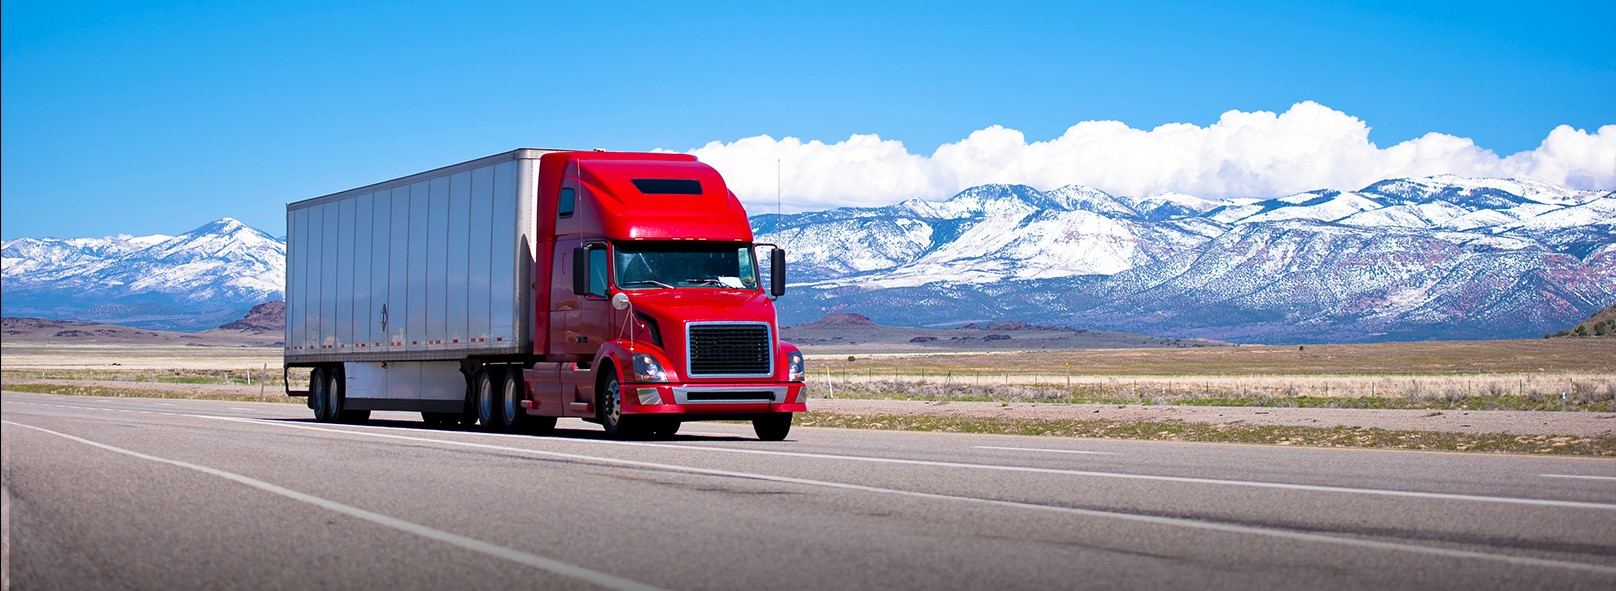truck: (246, 100, 966, 492)
